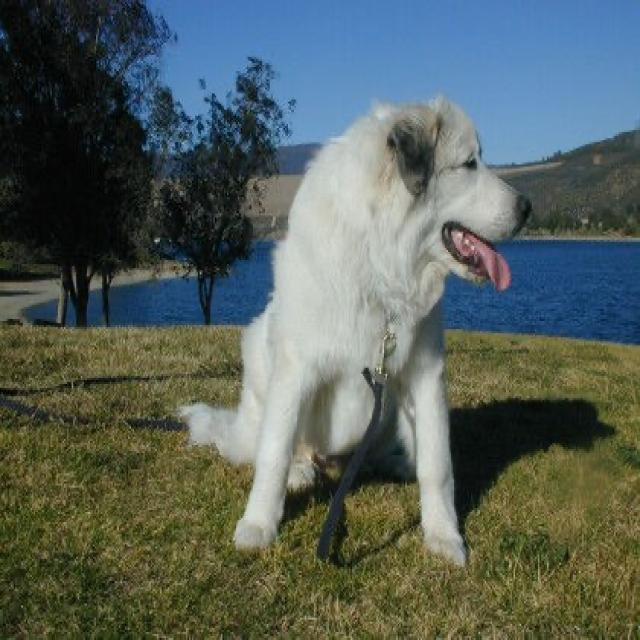dog: (384, 96, 530, 286)
